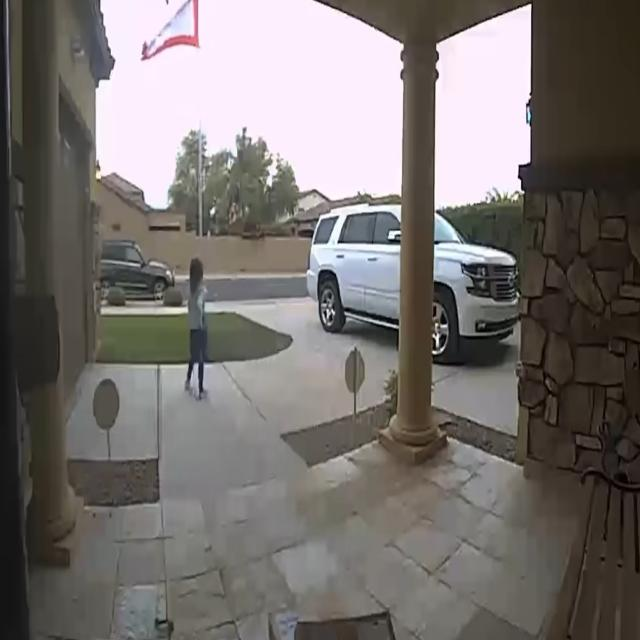standing: (185, 258, 207, 397)
